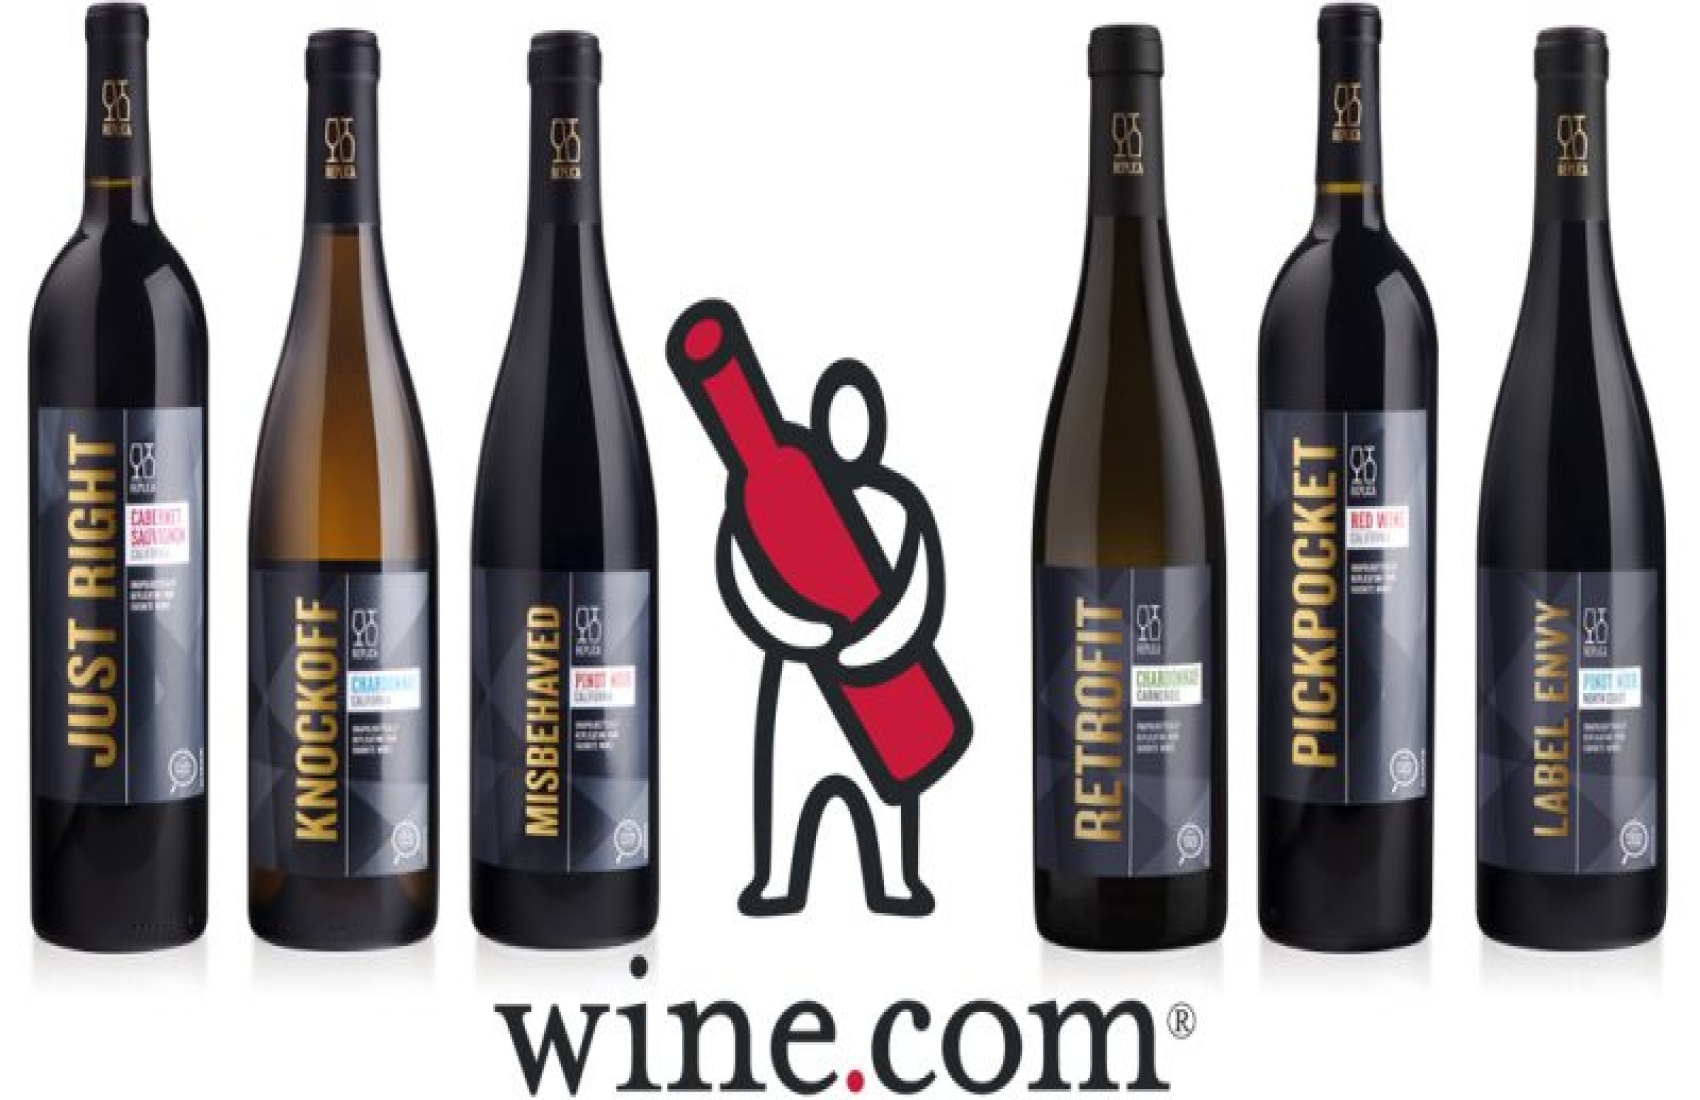wine: (1470, 10, 1660, 944), (480, 2, 670, 936), (1030, 9, 1220, 941), (1251, 1, 1442, 933), (250, 22, 440, 956), (32, 16, 222, 950)
